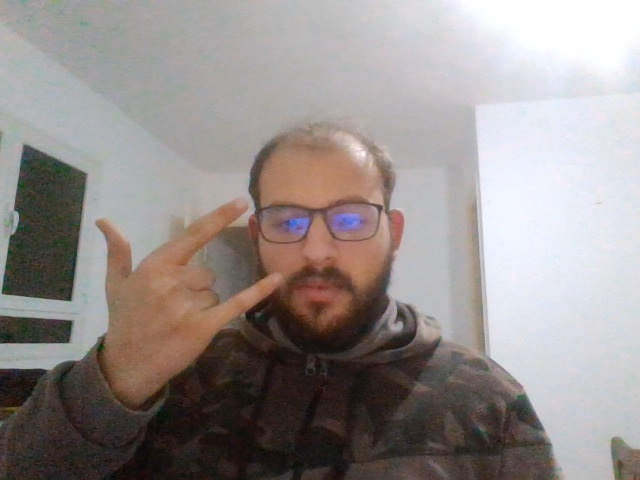I Love You: (97, 203, 283, 366)
